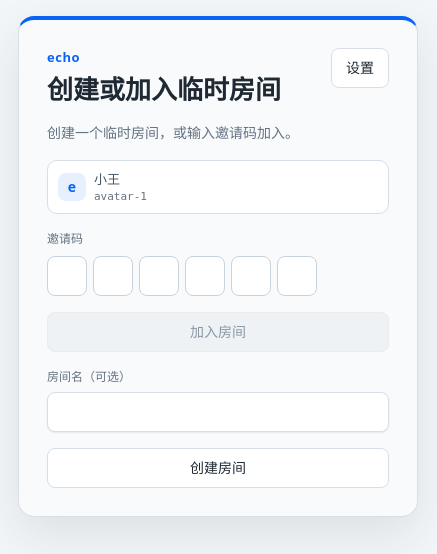
Test case: RoomEntryView › shows the server-provided default room name after creation
Step 1. Click the button "创建房间" → (218, 468), box x1=47 y1=448 x2=389 y2=488
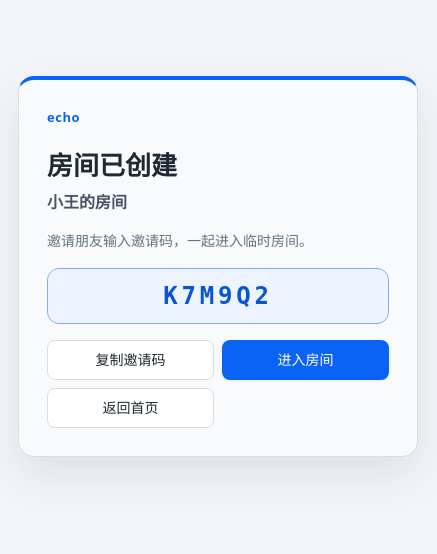
Check: the heading "房间已创建" is shown, box x1=47 y1=146 x2=177 y2=182
Check: the text "小王的房间" is shown, box x1=47 y1=190 x2=127 y2=212
